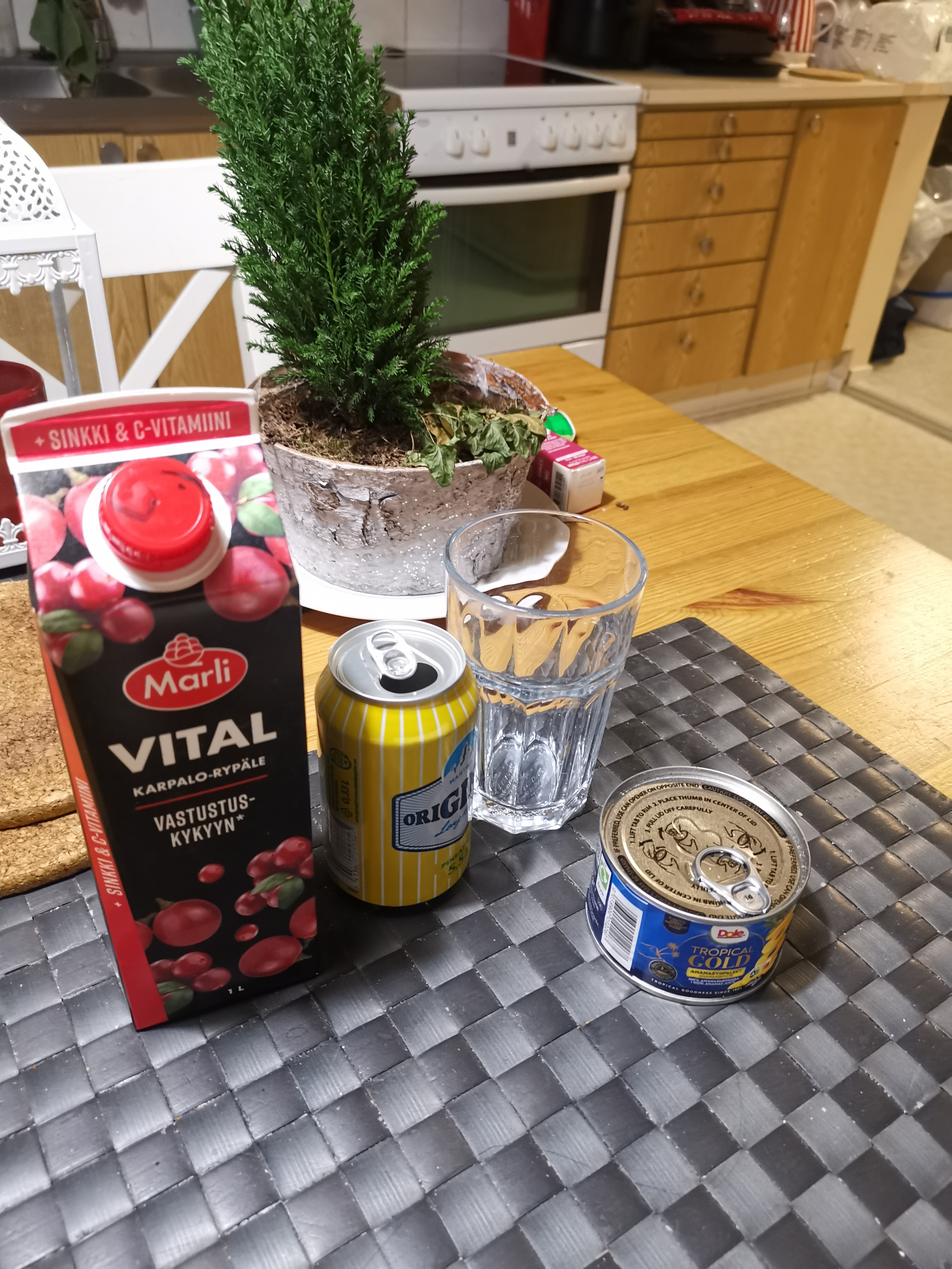Dryckeskartong: (0, 385, 325, 1034)
Konservburk: (580, 763, 815, 1009)
Pantburk: (312, 616, 485, 911)
